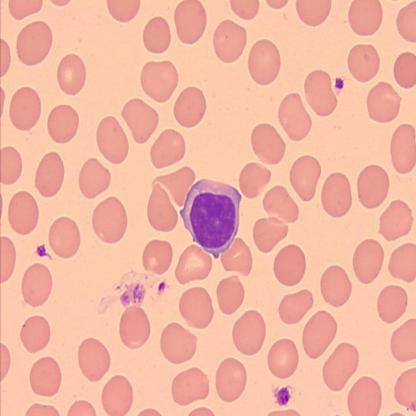Lymphocyte: (180, 177, 242, 260)
